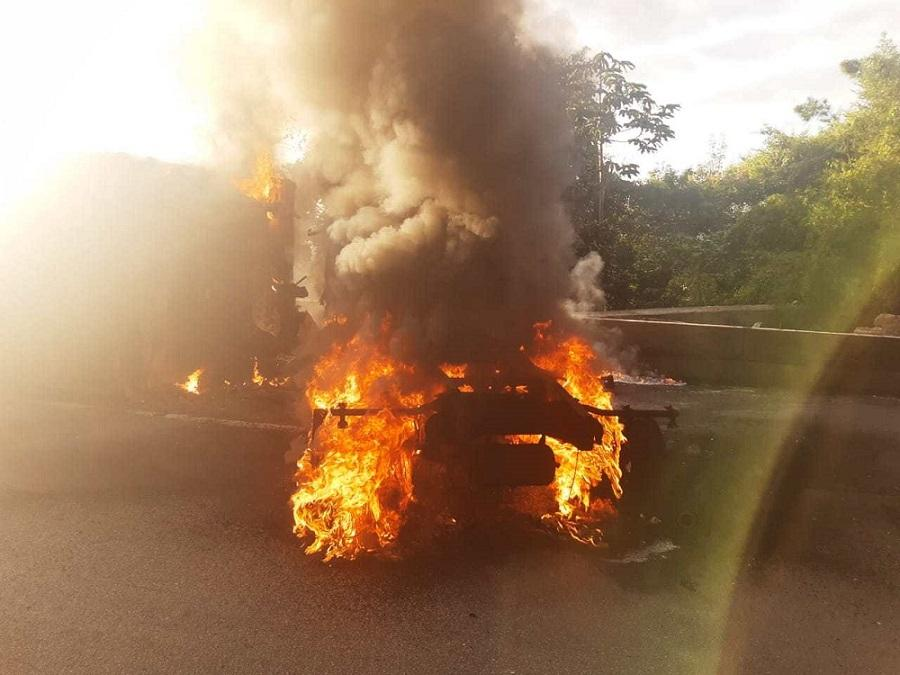fire: (309, 352, 413, 551), (555, 352, 622, 516)
smoke: (300, 2, 572, 340)
